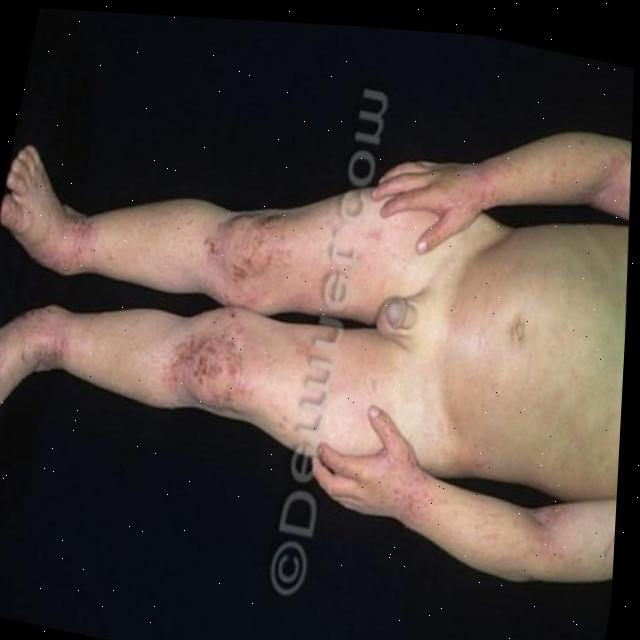Eczema: (182, 323, 295, 427), (190, 189, 295, 280), (0, 287, 73, 381), (41, 194, 112, 290), (522, 503, 592, 571), (360, 439, 417, 517), (576, 151, 632, 216)
